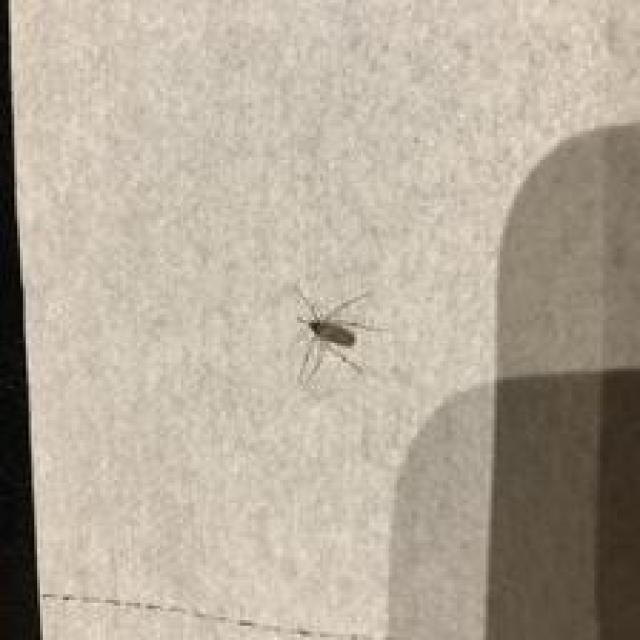Culex: (290, 282, 384, 387)
